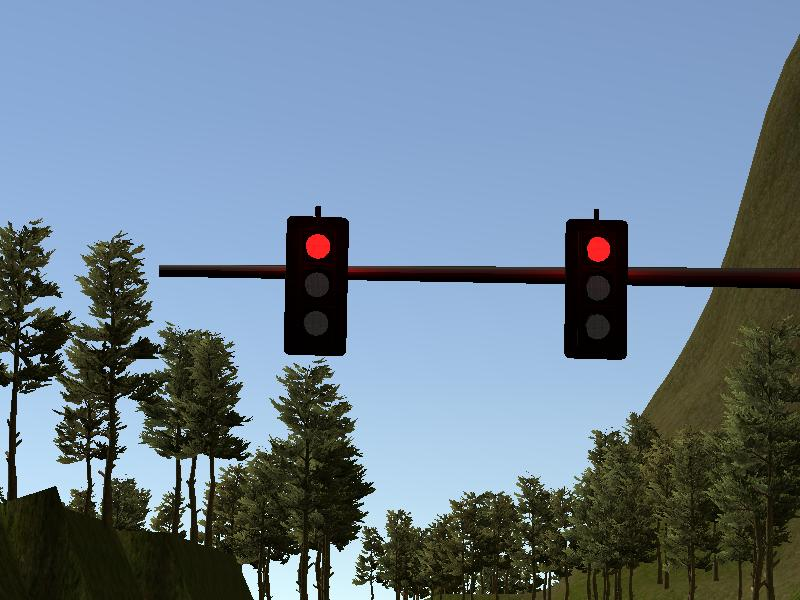Red: (285, 217, 346, 355), (566, 219, 626, 358)
